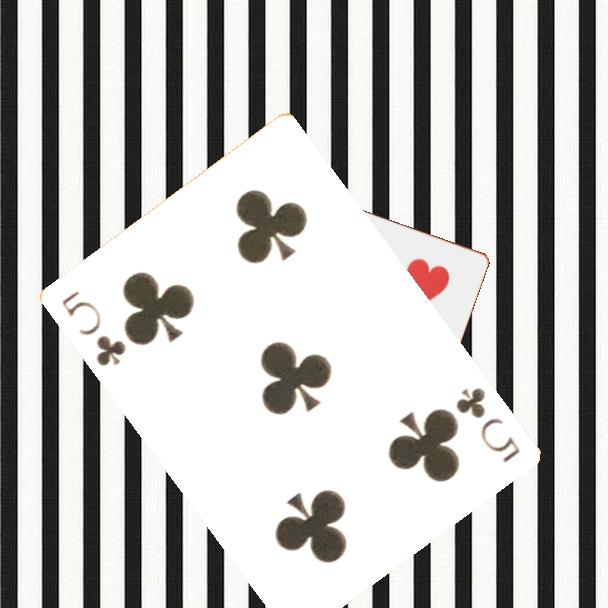c05: (451, 383, 523, 466), (57, 287, 129, 369)
